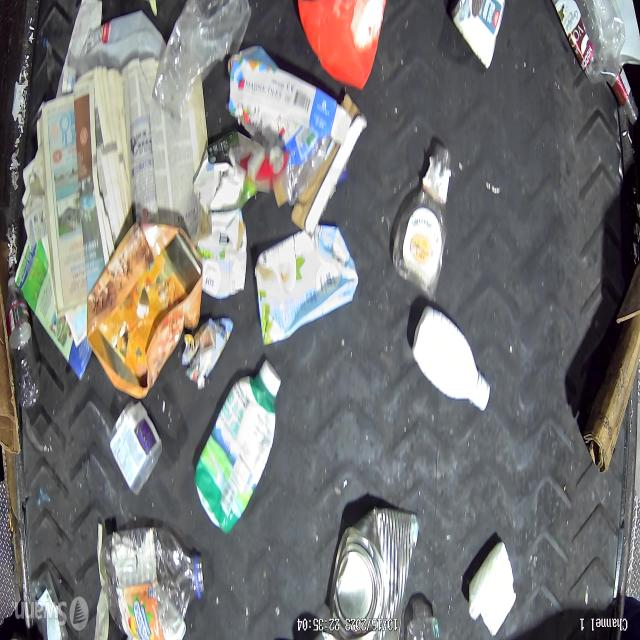can: (328, 507, 419, 640)
non_white_jug: (254, 225, 359, 346)
plastic_bottle: (98, 525, 203, 638), (5, 277, 41, 405)
